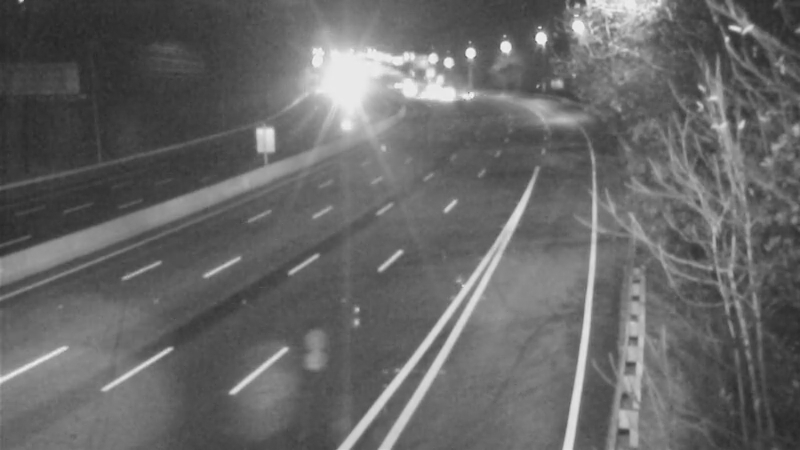vehicle: (383, 63, 433, 113), (417, 67, 467, 117), (429, 69, 479, 119), (439, 74, 489, 124)
